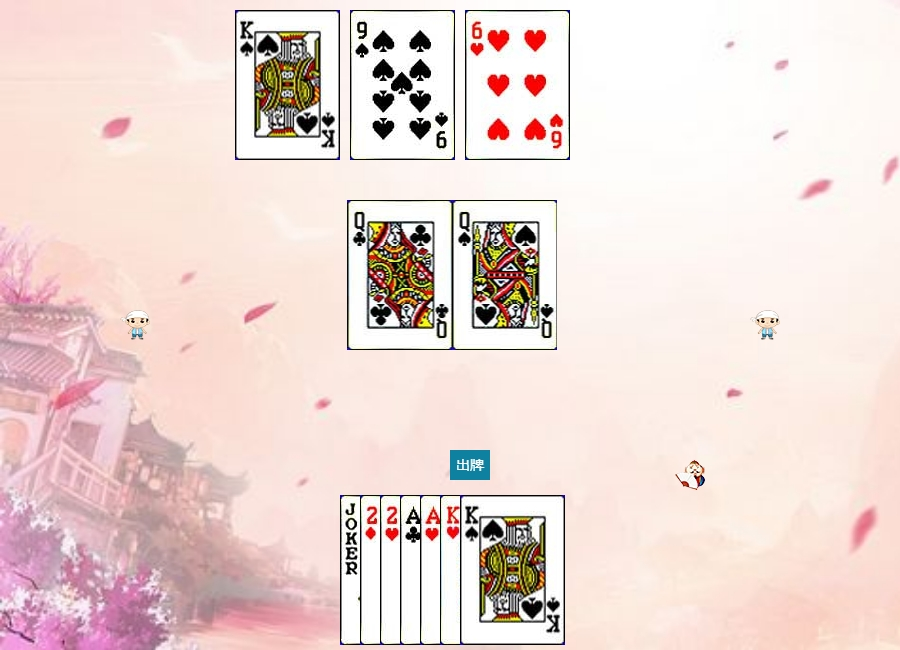12~2: (348, 200, 453, 350)
12~4: (453, 200, 558, 350)
13~3: (440, 495, 545, 645)
13~4: (235, 10, 340, 160), (460, 495, 565, 645)
14~2: (400, 495, 505, 645)
14~3: (420, 495, 525, 645)
15~1: (360, 495, 465, 645)
15~3: (380, 495, 485, 645)
17~3: (340, 495, 445, 645)
6~3: (465, 10, 570, 160)
9~4: (350, 10, 455, 160)
